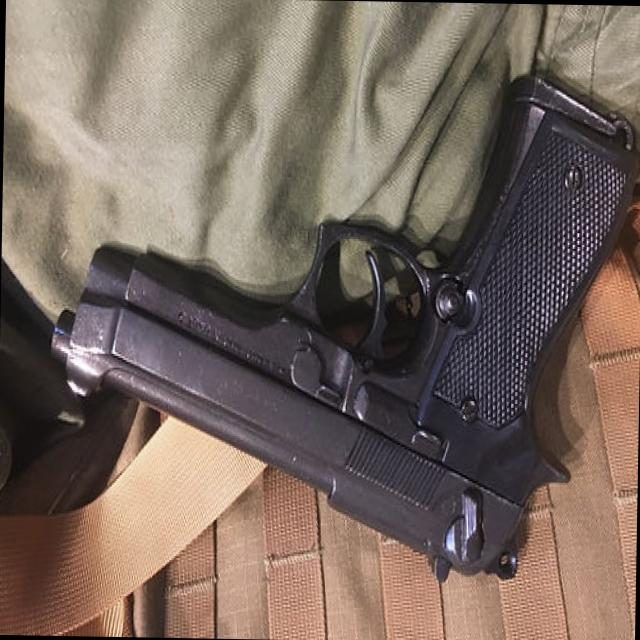Gun: (46, 89, 640, 571)
